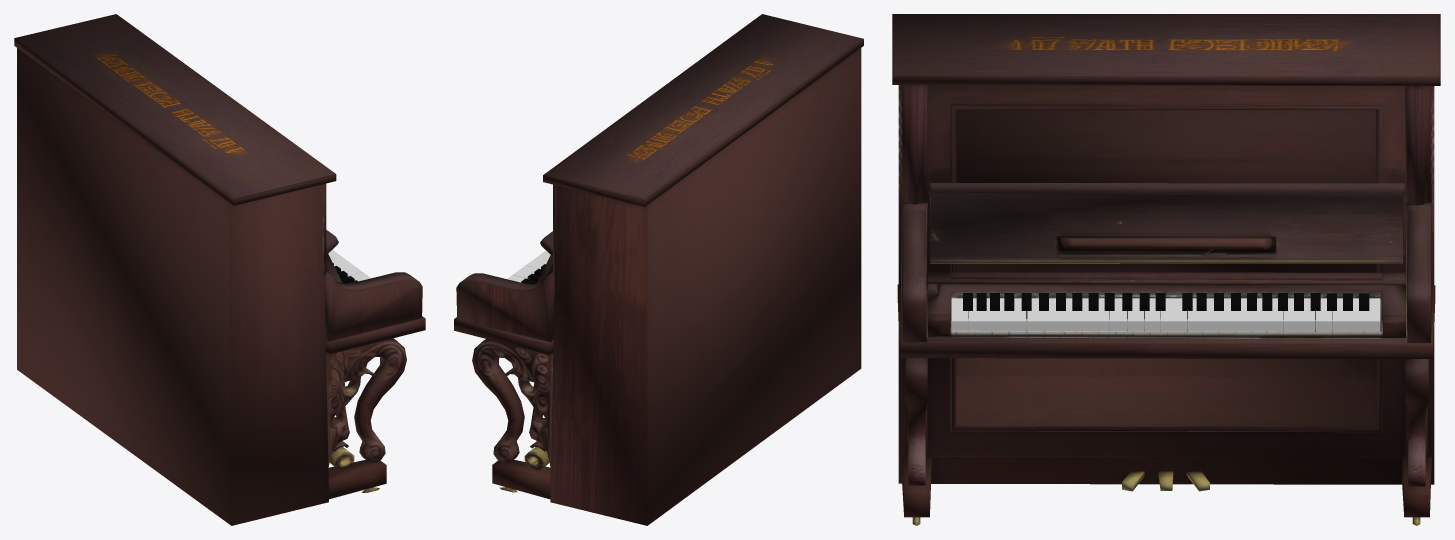
The model's file is Prop_Piano_Fix.fbx.
3 views of the same model, side by side, from view 1: azimuth 30°, elevation 25°; view 2: azimuth 150°, elevation 25°; view 3: azimuth 270°, elevation 25° (orthographic). The views are drawn at different scales.
Visible parts, largest first — view 1: Piano_Body; view 2: Piano_Body; view 3: Piano_Body, Key_White13.
Part boxes in pixels (bbox=[...]): Piano_Body: bbox=[14, 14, 425, 525]; Piano_Body: bbox=[454, 14, 863, 525]; Piano_Body: bbox=[892, 14, 1440, 525]; Key_White13: bbox=[1161, 298, 1187, 331].
Size of the model in its own units: 73.01 by 120 by 143.
